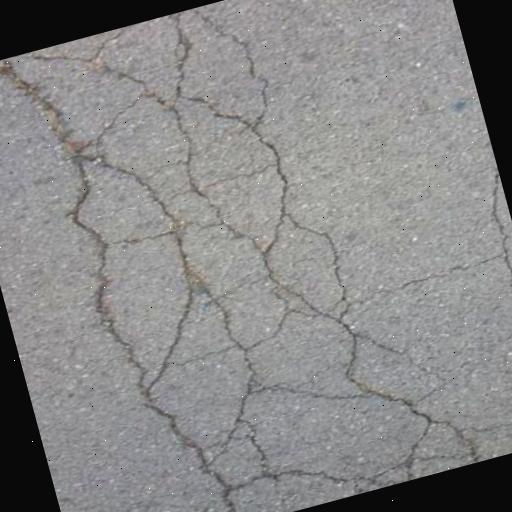spalling: (61, 46, 494, 461), (0, 61, 251, 512), (92, 148, 207, 384), (196, 271, 265, 472), (234, 451, 378, 510), (480, 147, 512, 319)
